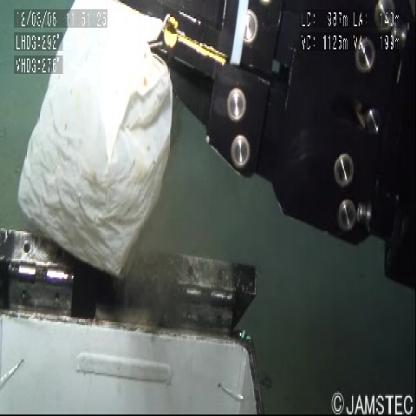Rov: (149, 2, 415, 292), (0, 215, 271, 416)
Rác: (16, 2, 174, 292)
